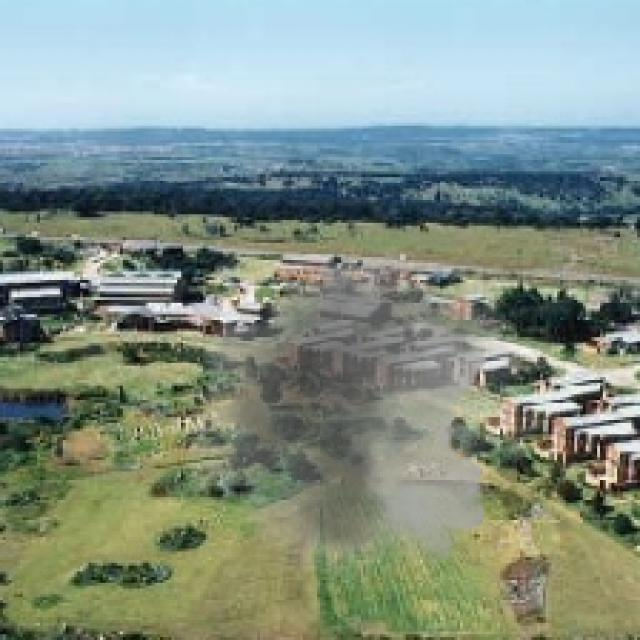Smoke: (162, 237, 568, 583)
